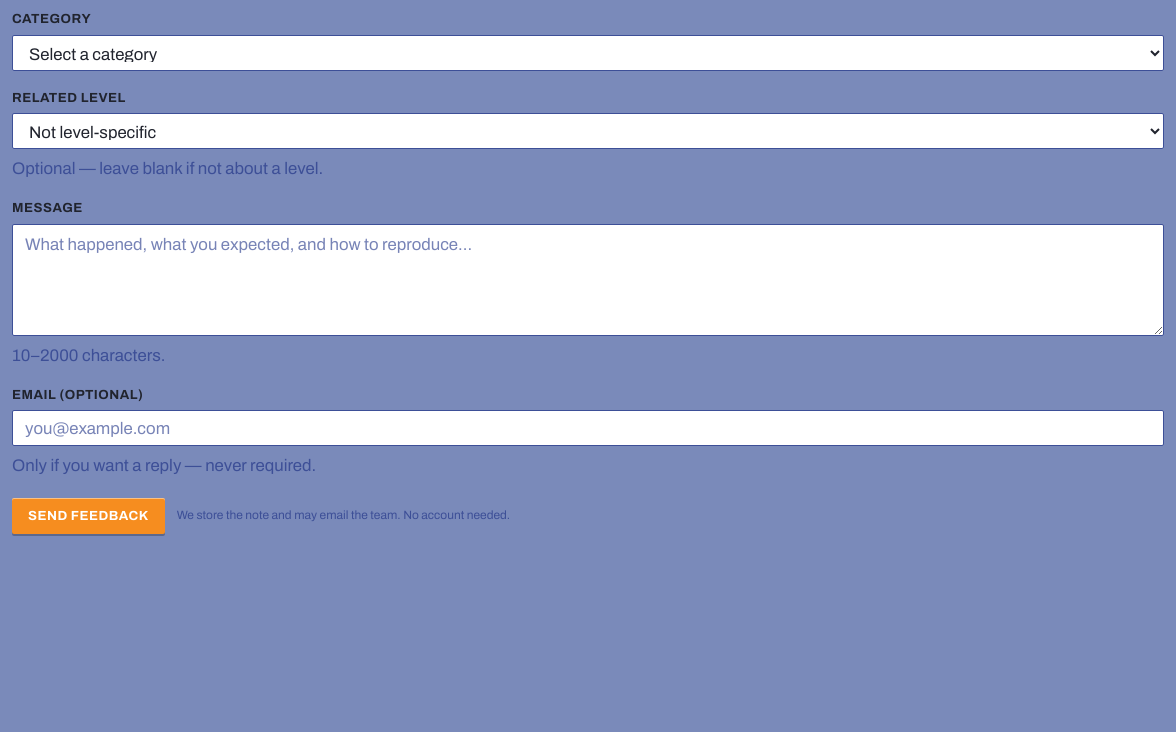
Test: FeedbackForm › shows field errors when message is too short
Select "Bug report" in the dropdown labelled "Category" at (588,52), box [12, 34, 1164, 70]
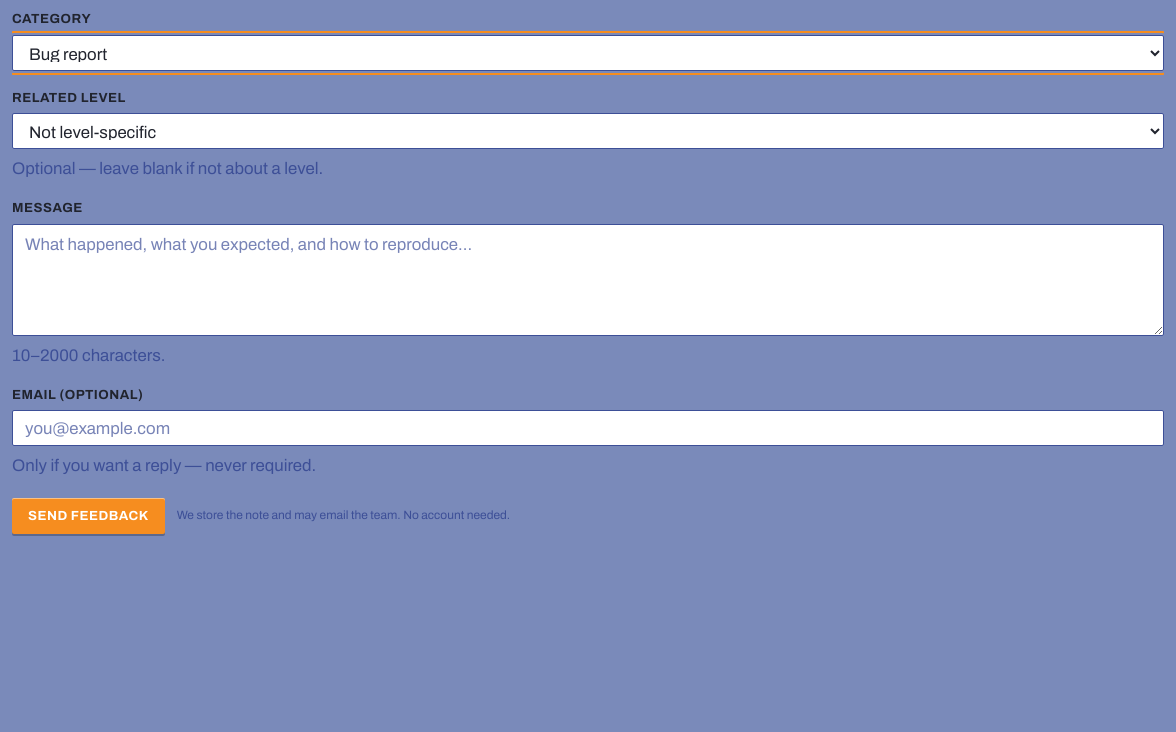
Type "too short" into the text box labelled "Message" at (588,280), box [12, 224, 1164, 336]
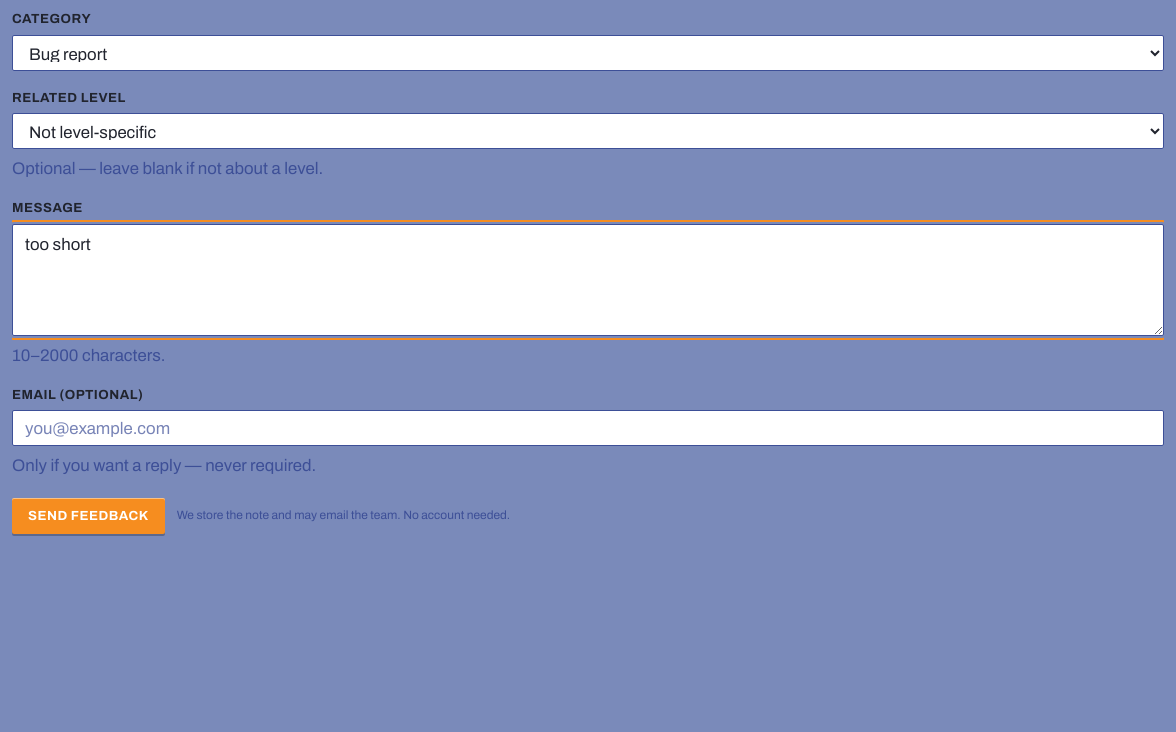
Click the button "Send feedback" at (88,516), box [12, 498, 165, 534]
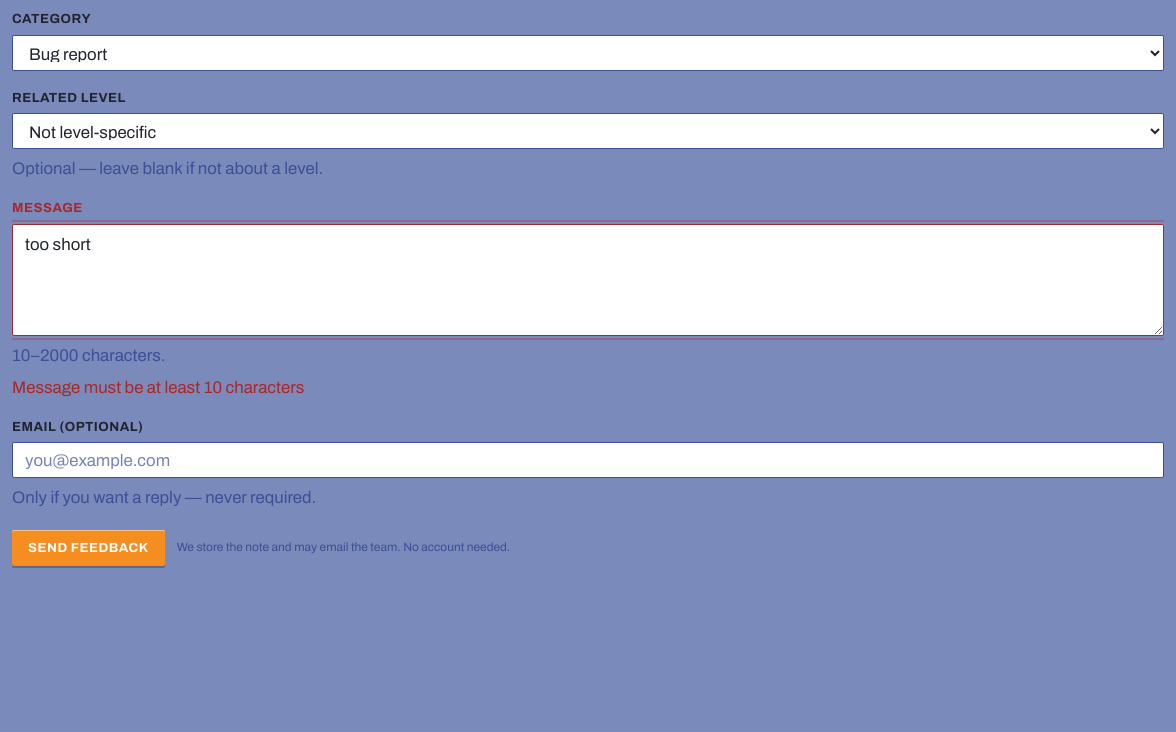
Check: the text "Message must be at least 10 characters" is shown, box [12, 378, 304, 396]
